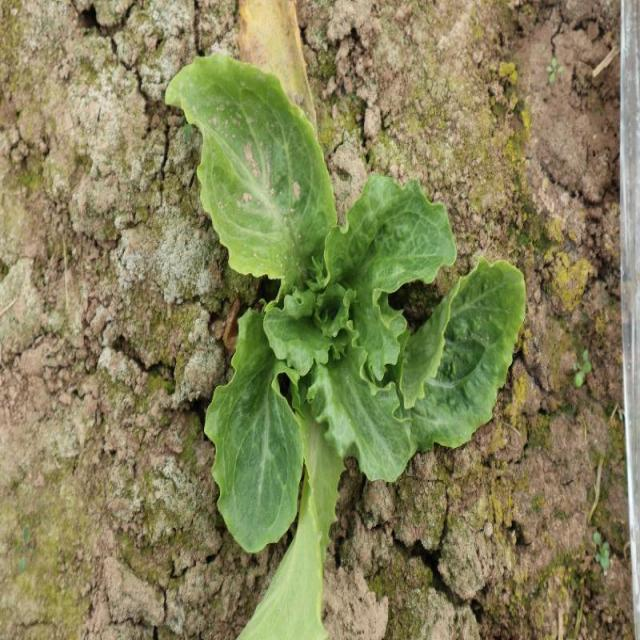crop: (159, 51, 526, 640)
